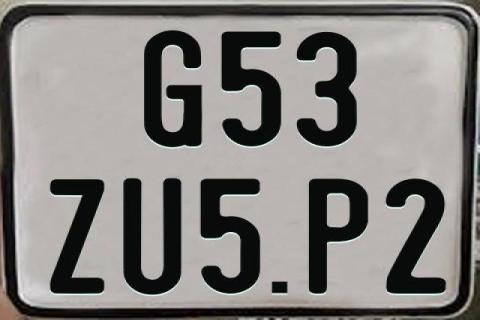0: (294, 31, 360, 151), (197, 177, 262, 295), (221, 30, 284, 150), (386, 176, 450, 293)
G: (141, 30, 200, 148)
P: (306, 178, 368, 298)
U: (122, 177, 182, 297)
Z: (50, 177, 109, 293)
